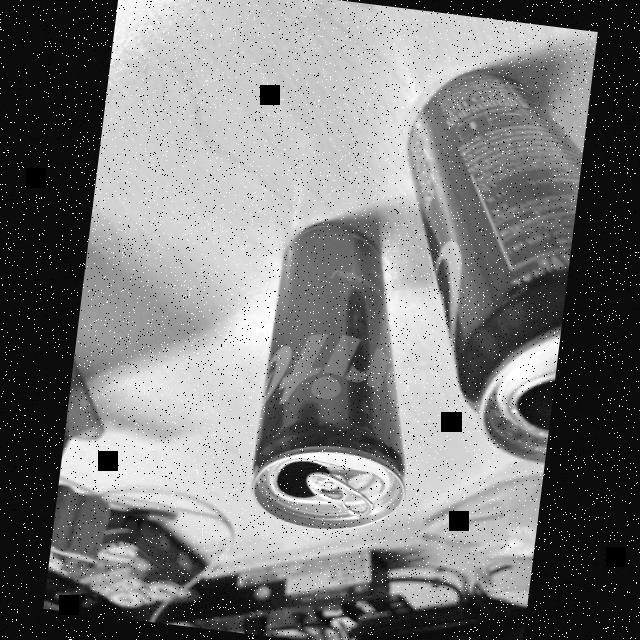can: (358, 60, 590, 459), (219, 212, 443, 548)
